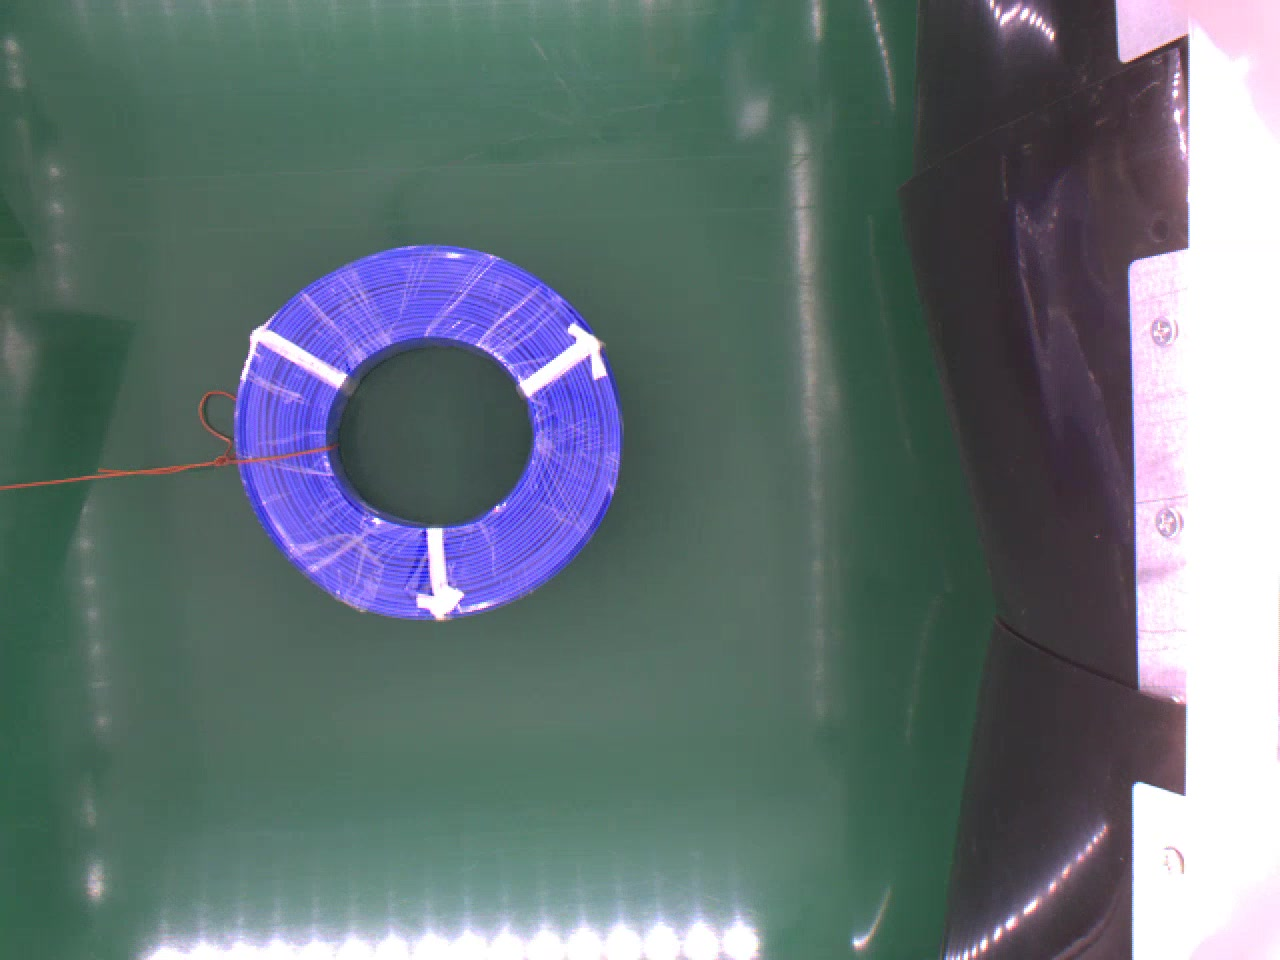blue: (227, 240, 622, 621)
